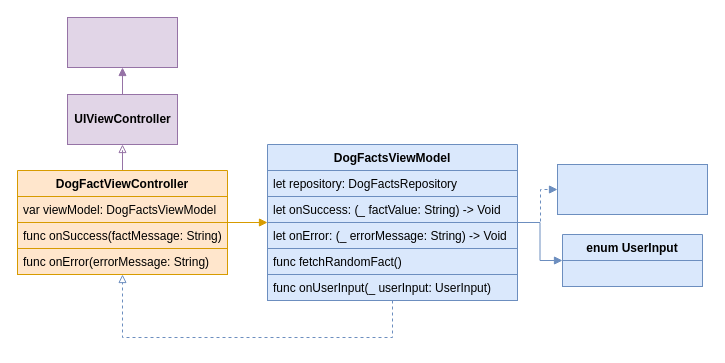
The diagram is 725 pixels wide and 363 high, and some of its shapes have lost their labels. Each missing label, with the centre of its shape:
<<DogFactsRepository>>: [632,189]
case fetchFactClicked: [632,273]
UIKit: [122,42]
